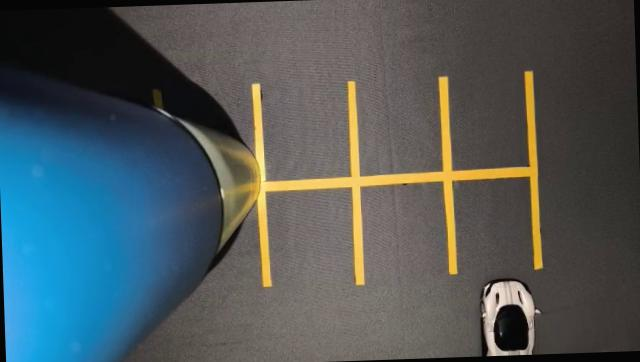toy_car: (452, 252, 557, 357)
